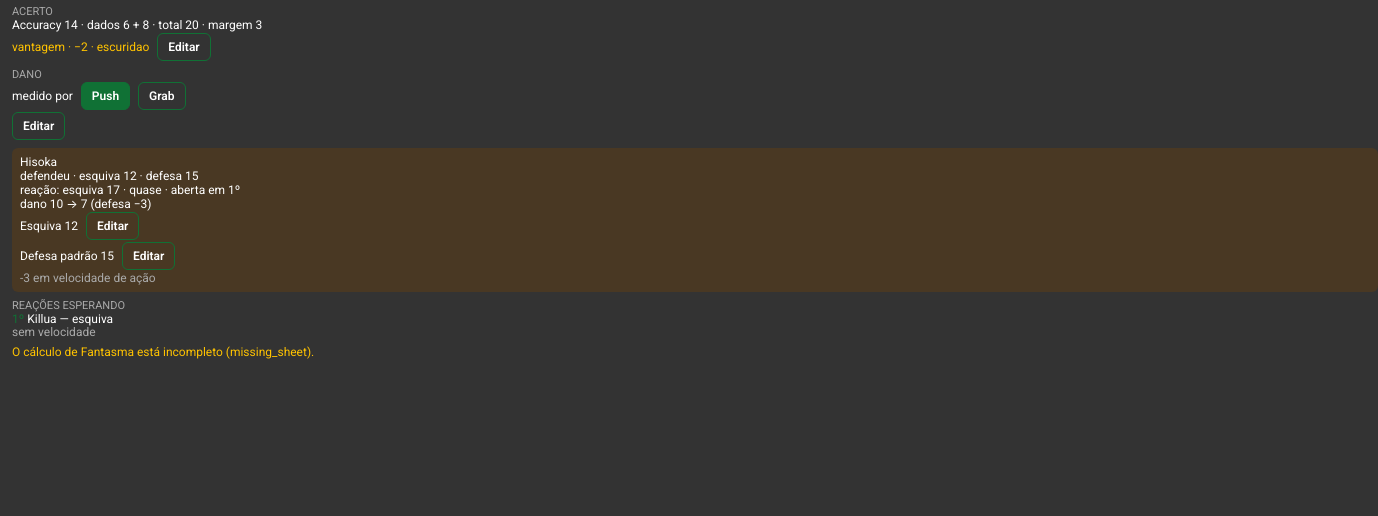
ResolutionDetails › edição do mestre (Fase 8) › editar o acerto abre o editor e manda o edit_action da ação
The width and height of the screenshot is (1378, 516).
Click the button with aria-label "Editar Acerto".
click(184, 47)  # box x1=157 y1=33 x2=211 y2=61
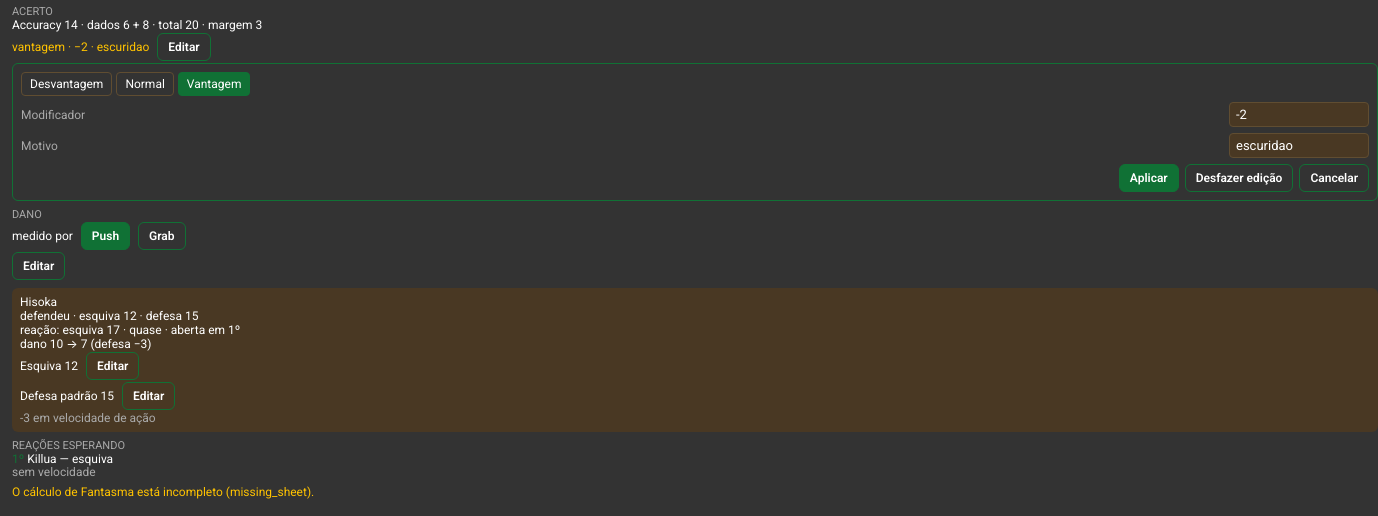
Click the button "Desfazer edição".
click(1239, 178)  # box x1=1185 y1=164 x2=1293 y2=192
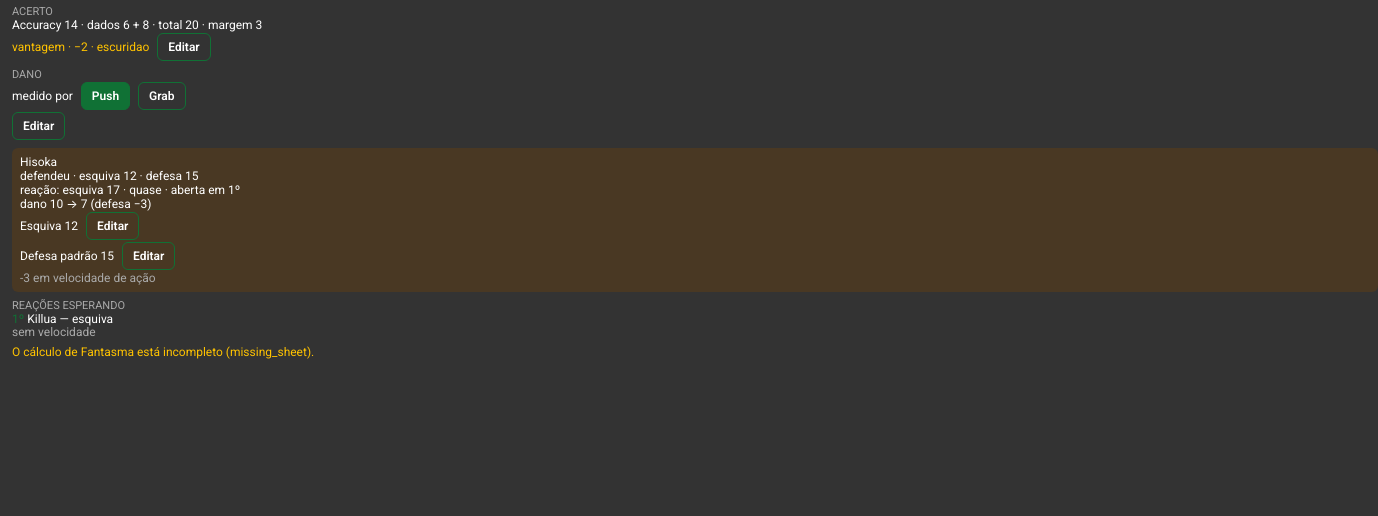
Result: the button "Aplicar" is gone
